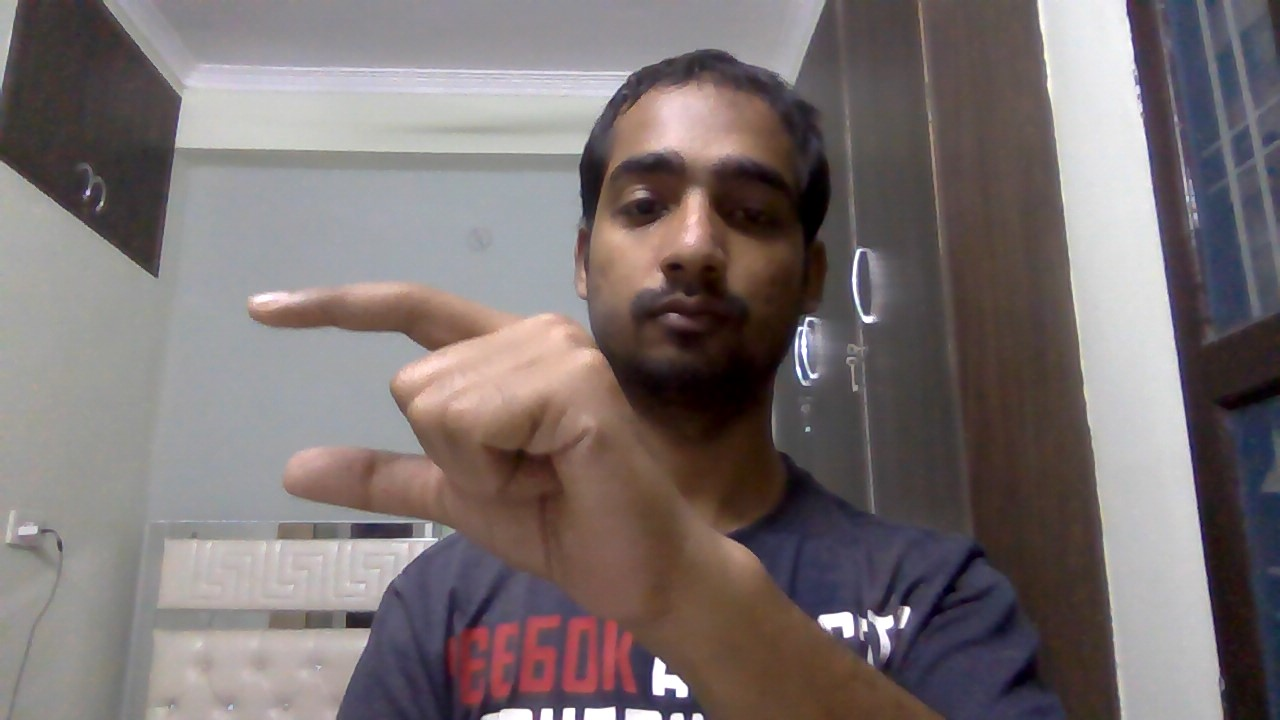Paste: (228, 271, 717, 645)
